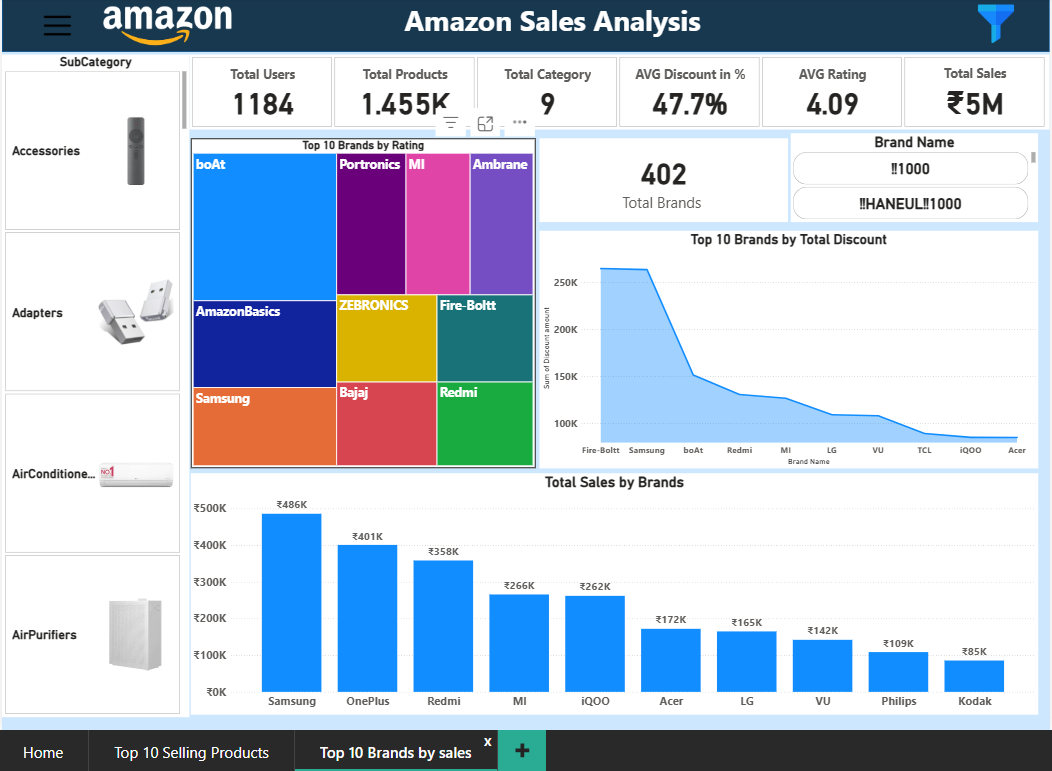

This screenshot's page, from the dashboard's own definition file:
{"tool":"powerbi","page":{"name":"Top 10 Brands by sales ","canvas":[2000,1400],"ordinal":2},"visuals":[{"type":"shape","box":[0,0,1999.3,105],"z":0},{"type":"image","box":[174.2,0,283.9,109.7],"z":1000},{"type":"textbox","box":[756.3,2.4,603.6,102.6],"z":2000},{"type":"cardVisual","fields":{"Data":["Count(amazon.user_id)","CountNonNull(amazon.Product Name)","Count(amazon.Category)","Avg(amazon.discount_percentage)","Avg(amazon.rating)","Sum(amazon.discounted_price)"]},"box":[357.9,109.7,1641.5,143.2],"z":3000},{"type":"advancedSlicerVisual","title":"SubCategory","fields":{"Values":["amazon.Sub_Category"]},"box":[0,109.7,357.9,1264.5],"z":4000},{"type":"treemap","title":"Top 10 Brands by Rating ","fields":{"Group":["amazon.Brand Name"],"Values":["Sum(amazon.rating)"]},"box":[360.3,269.6,658.5,629.9],"z":5000},{"type":"columnChart","title":"Total Sales by Brands","fields":{"Y":["Sum(amazon.discounted_price)"],"Category":["amazon.Brand Name"]},"box":[360.3,909,1617.6,460.5],"z":6000},{"type":"areaChart","title":"Top 10 Brands by Total Discount ","fields":{"Category":["amazon.Brand Name"],"Y":["Sum(amazon.Discount amount )"]},"box":[1025.9,446.2,951.9,453.3],"z":7000},{"type":"image","box":[38.2,21.5,136,64.4],"z":8000},{"type":"card","fields":{"Values":["Count(amazon.Brand Name)"]},"box":[1025.9,269.6,474.8,159.9],"z":11000},{"type":"advancedSlicerVisual","title":"Brand Name","fields":{"Values":["amazon.Brand Name"]},"box":[1505.5,260.1,472.4,169.4],"z":12000},{"type":"image","box":[1834.7,9.5,124.1,83.5],"z":13000}]}

Visuals, with their boxes on the page's 2000x1400 design canvas (x1, y1, x2, y2). These are canvas units, not pixel positions in the 1052x771 screenshot, which may show the page scaled, cropped or inside an application window:
shape: 0/0/1999/105
image: 174/0/458/110
textbox: 756/2/1360/105
cardVisual - Count(amazon.user_id) x CountNonNull(amazon.Product Name): 358/110/1999/253
"SubCategory" advancedSlicerVisual: 0/110/358/1374
"Top 10 Brands by Rating " treemap: 360/270/1019/900
"Total Sales by Brands" columnChart: 360/909/1978/1370
"Top 10 Brands by Total Discount " areaChart: 1026/446/1978/900
image: 38/22/174/86
card - Count(amazon.Brand Name): 1026/270/1501/430
"Brand Name" advancedSlicerVisual: 1506/260/1978/430
image: 1835/10/1959/93
